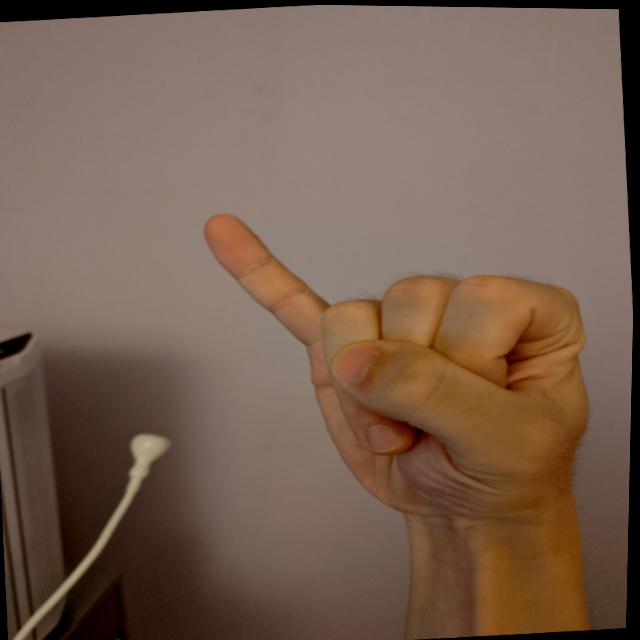I: (191, 180, 618, 542)
